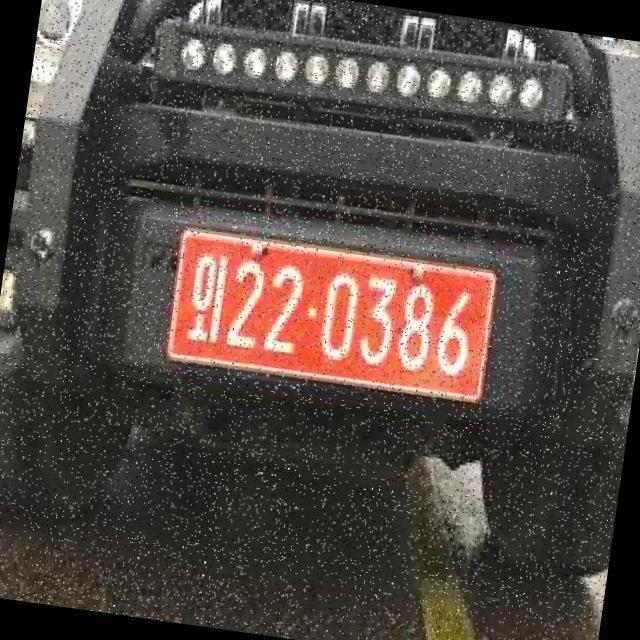License Plate: (165, 226, 502, 406)
